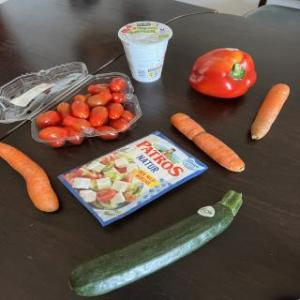carrot: (169, 109, 257, 177), (0, 138, 70, 219), (248, 80, 300, 148)
tomato: (20, 73, 146, 141)
zucchini: (68, 190, 256, 296)
